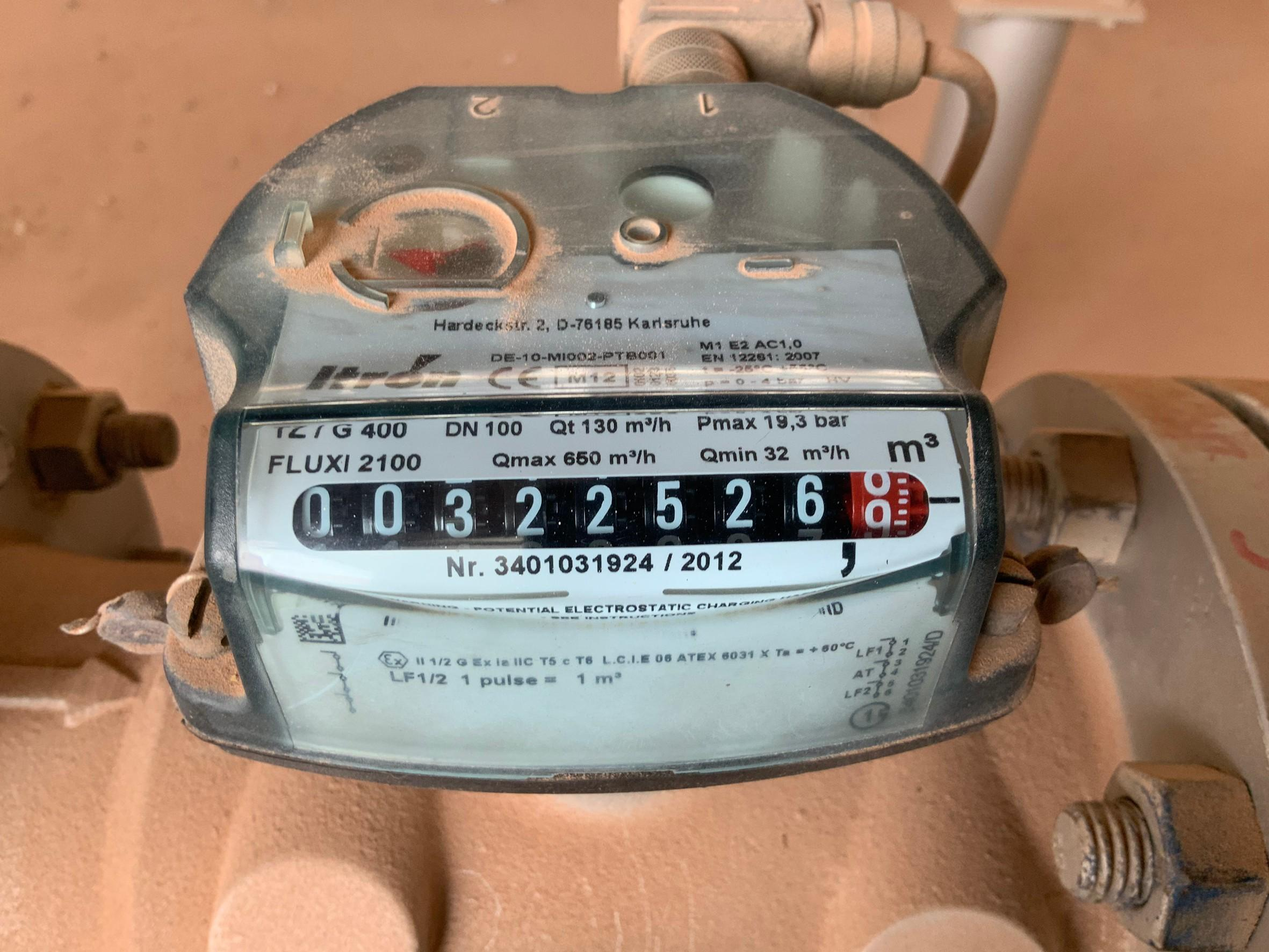analog_dial: (289, 464, 963, 562)
